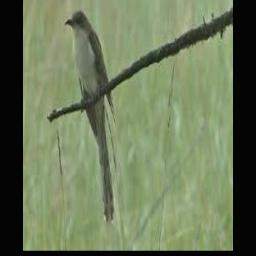Cuckoo: (66, 10, 117, 226)
